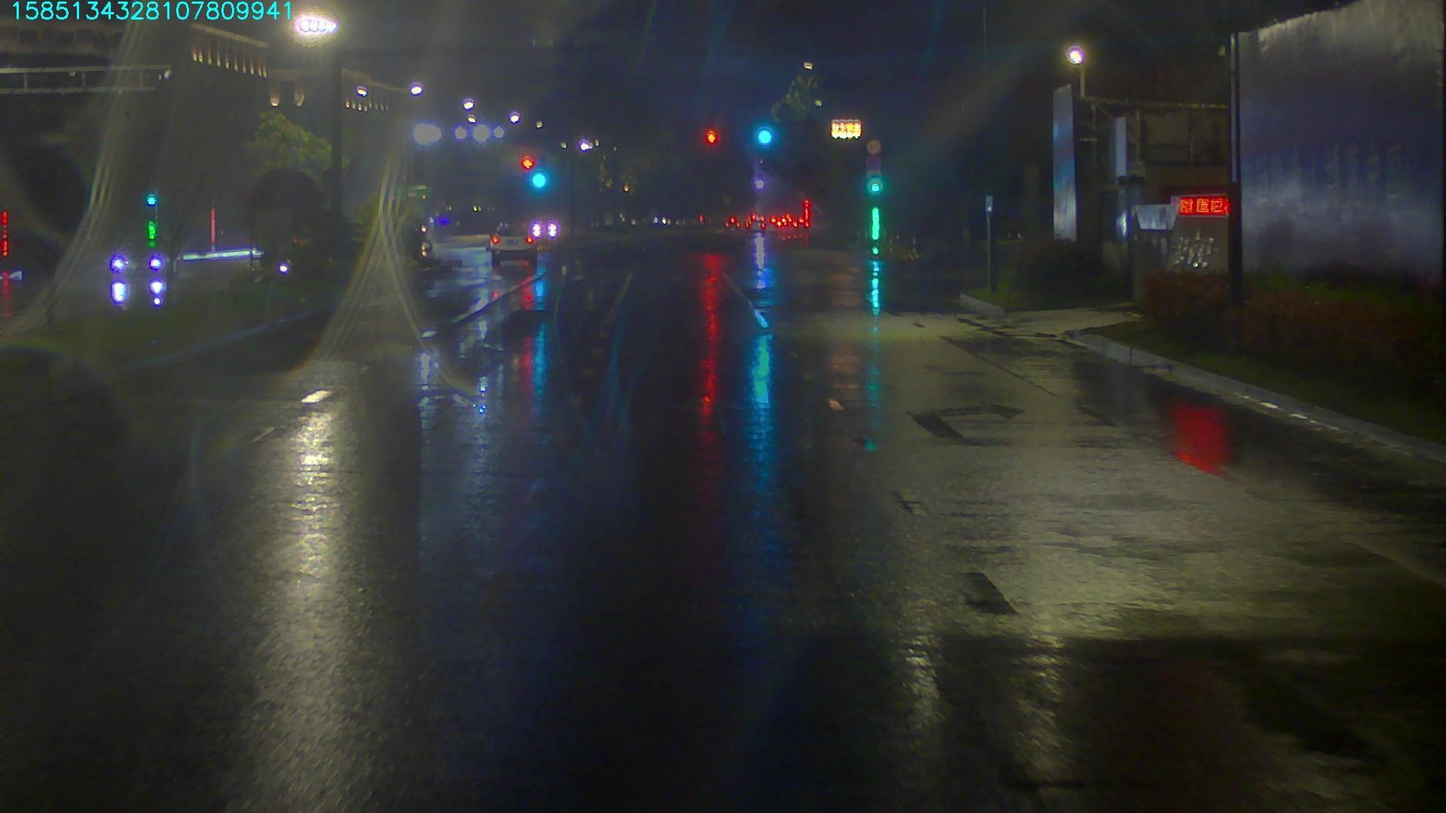green: (753, 126, 780, 148)
red: (703, 123, 719, 145)
